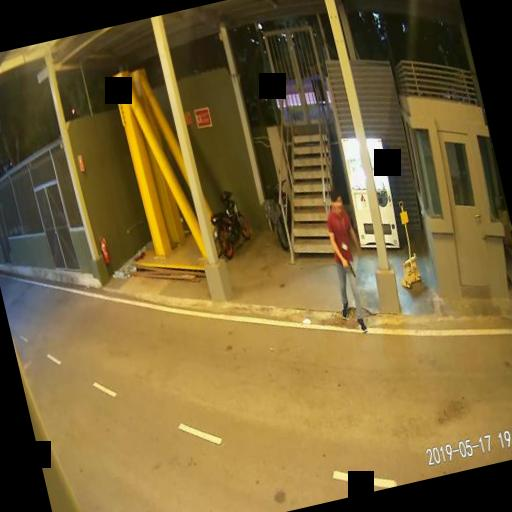Handgun: (340, 256, 354, 279)
